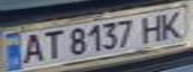1: (84, 21, 106, 53)
3: (100, 20, 121, 52)
7: (115, 16, 142, 47)
8: (66, 25, 87, 56)
A: (15, 30, 48, 65)
H: (136, 11, 172, 44)
K: (154, 8, 190, 41)
T: (36, 28, 66, 61)
